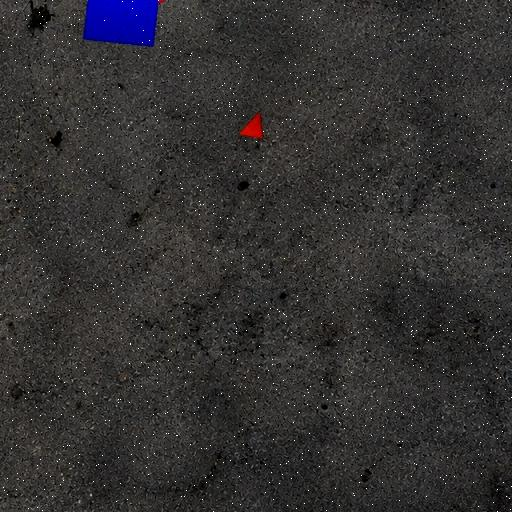BLUE_SQUARE: (83, 0, 162, 47)
